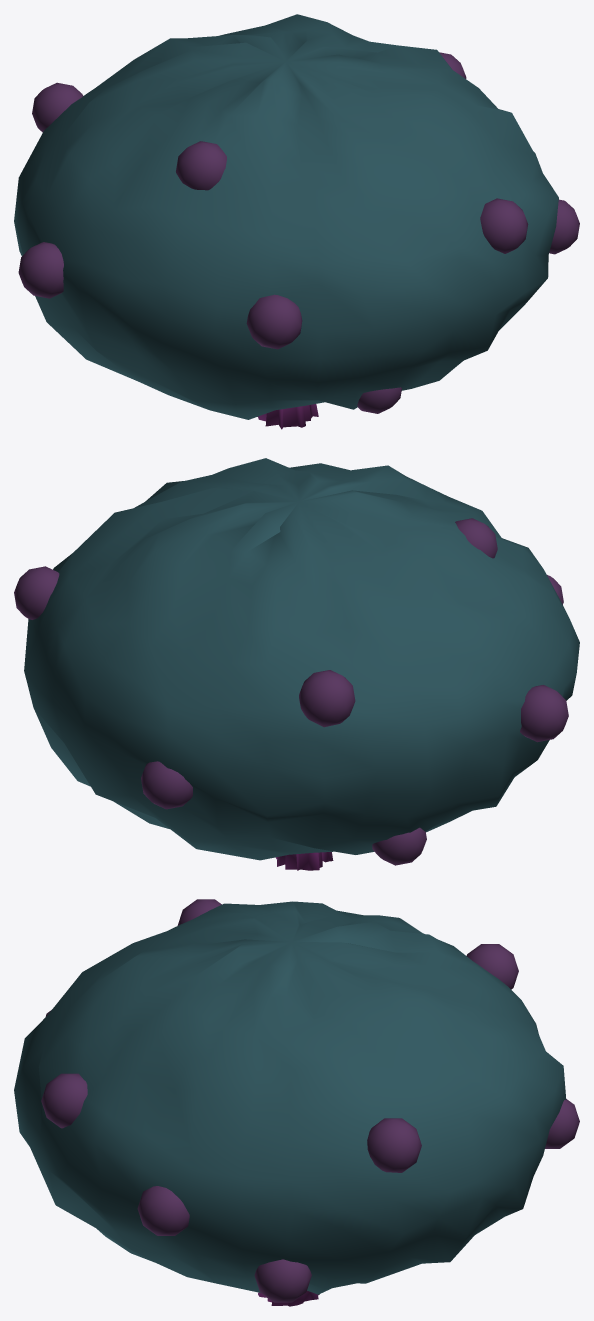
File: Bush.glb
3 renders of one model, top to bottom at view 1: azimuth 30°, elevation 25°; view 2: azimuth 150°, elevation 25°; view 3: azimuth 270°, elevation 25°, orthographic.
Parts seen in each view (by area): view 1: Bush, Fruit; view 2: Bush, Fruit; view 3: Bush, Fruit.
Boxes of the visible parts, x1,y1,x2,y2 form: Bush: (14, 14, 558, 429); Fruit: (18, 52, 579, 413); Bush: (24, 458, 579, 870); Fruit: (14, 518, 568, 865); Bush: (14, 901, 566, 1306); Fruit: (41, 899, 579, 1302).
Size of the model in its own units: 3.24 by 2.26 by 3.22.
